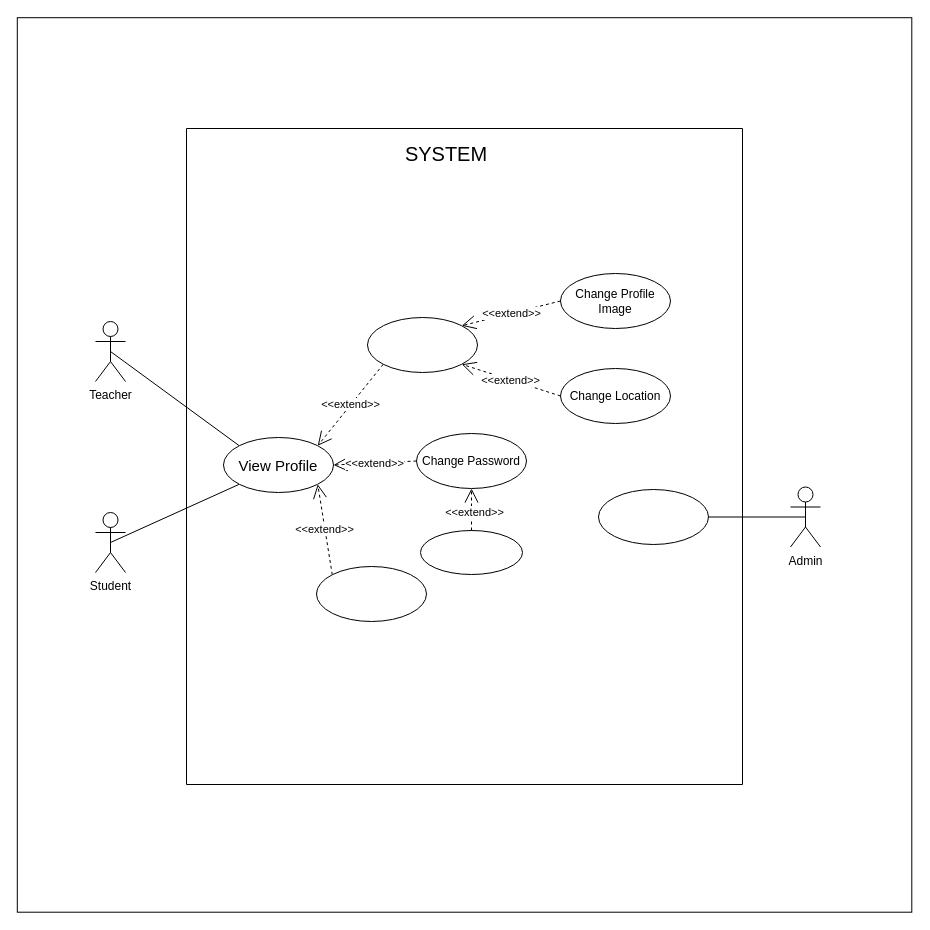
Image size: 930x930. Some labels were removed from this diagram. Each missing label, with the box of its shape:
Edit Profile: (366, 316, 478, 372)
Home: (316, 566, 426, 622)
OTP Varification: (420, 530, 522, 574)
Update Profile: (598, 488, 708, 544)
